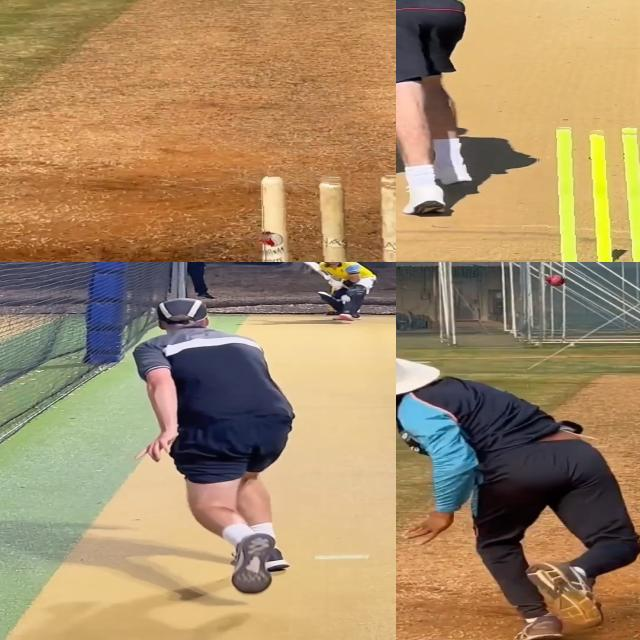Cricket ball: (544, 274, 566, 286), (340, 294, 352, 302)
Stumps: (535, 125, 640, 262), (261, 172, 396, 262)
